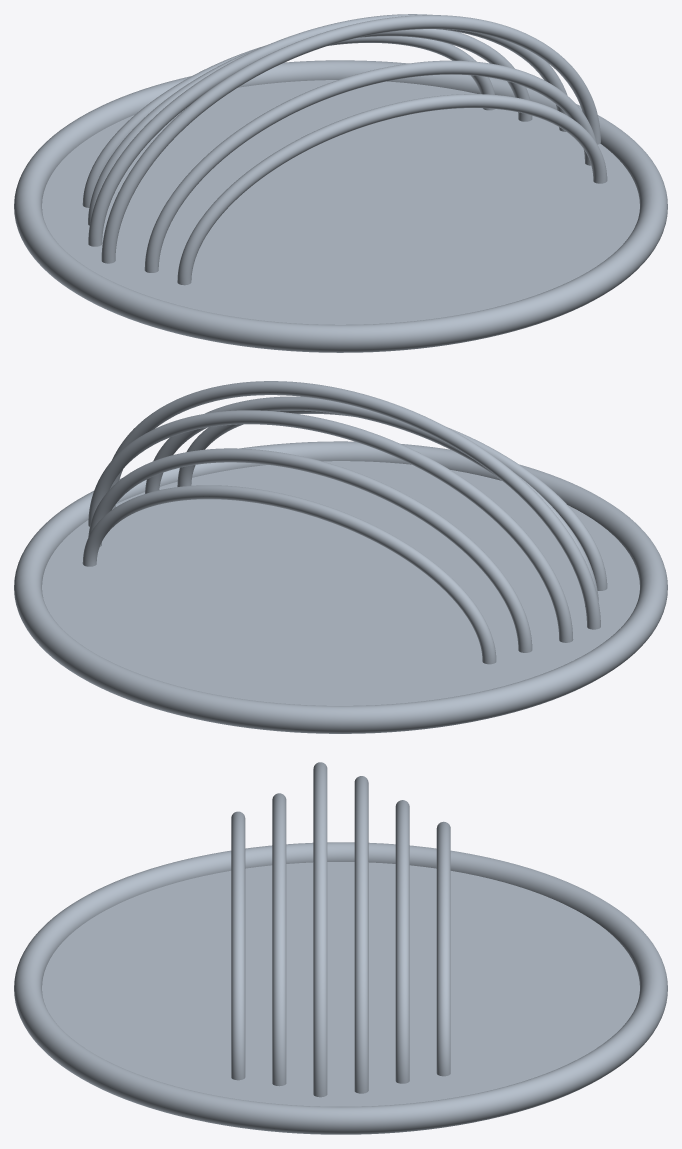
The model's file is waterline-v05.glb.
The picture shows the model from 3 angles, top to bottom: view 1: azimuth 30°, elevation 25°; view 2: azimuth 150°, elevation 25°; view 3: azimuth 270°, elevation 25°; orthographic projection.
Visible parts, largest first — view 1: waterline-v05, Rim, Rib 3 Water, Rib 2 Leaf, Rib 1 Warmth, Rib 4 Time, Rib 6 Sweetness, Rib 5 Air; view 2: waterline-v05, Rim, Rib 4 Time, Rib 3 Water, Rib 5 Air, Rib 6 Sweetness, Rib 2 Leaf, Rib 1 Warmth; view 3: waterline-v05, Rim, Rib 3 Water, Rib 4 Time, Rib 2 Leaf, Rib 5 Air, Rib 1 Warmth, Rib 6 Sweetness.
Part boxes in pixels (x1=…): waterline-v05: x1=42, y1=80, x2=639, y2=324; Rim: x1=14, y1=60, x2=667, y2=352; Rib 3 Water: x1=101, y1=15, x2=600, y2=263; Rib 2 Leaf: x1=144, y1=60, x2=596, y2=272; Rib 1 Warmth: x1=177, y1=94, x2=607, y2=285; Rib 4 Time: x1=88, y1=14, x2=567, y2=246; Rib 6 Sweetness: x1=82, y1=36, x2=494, y2=207; Rib 5 Air: x1=88, y1=29, x2=532, y2=225; waterline-v05: x1=42, y1=461, x2=639, y2=705; Rim: x1=14, y1=441, x2=667, y2=733; Rib 4 Time: x1=88, y1=410, x2=573, y2=642; Rib 3 Water: x1=110, y1=381, x2=600, y2=629; Rib 5 Air: x1=88, y1=448, x2=532, y2=652; Rib 6 Sweetness: x1=82, y1=485, x2=496, y2=664; Rib 2 Leaf: x1=145, y1=396, x2=598, y2=606; Rib 1 Warmth: x1=177, y1=410, x2=607, y2=590; waterline-v05: x1=42, y1=862, x2=639, y2=1106; Rim: x1=14, y1=842, x2=667, y2=1134; Rib 3 Water: x1=313, y1=762, x2=327, y2=1097; Rib 4 Time: x1=354, y1=776, x2=368, y2=1093; Rib 2 Leaf: x1=272, y1=793, x2=286, y2=1086; Rib 5 Air: x1=395, y1=800, x2=409, y2=1083; Rib 1 Warmth: x1=231, y1=811, x2=245, y2=1080; Rib 6 Sweetness: x1=436, y1=821, x2=450, y2=1076.
Size of the model in its own units: 7 by 2.38 by 7.
